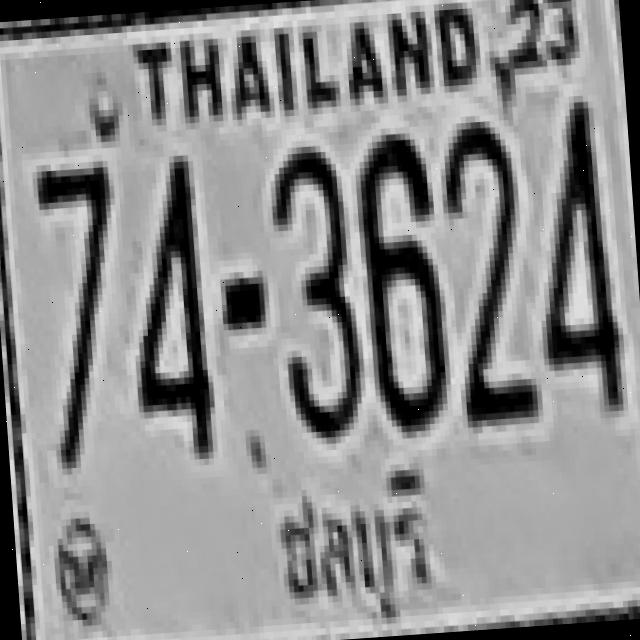2: (434, 116, 528, 387)
3: (267, 137, 364, 440)
4: (526, 97, 623, 412), (118, 148, 215, 456), (526, 96, 618, 342)
6: (352, 128, 449, 431)
7: (31, 160, 127, 450), (31, 160, 123, 394), (31, 164, 121, 372), (31, 164, 120, 346)
Chonburi: (256, 457, 434, 640)
